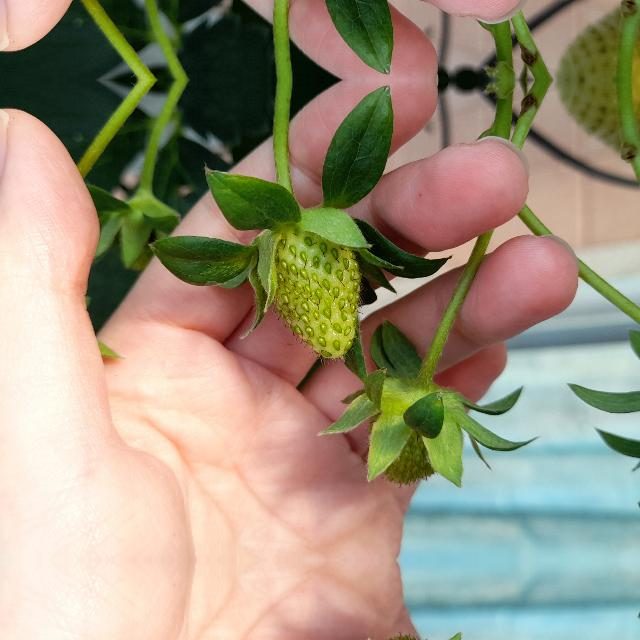Health_25: (270, 222, 360, 358), (364, 372, 462, 488)
